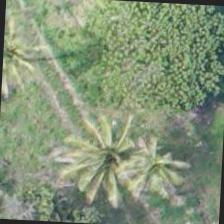Kelapa_Sawit: (49, 114, 144, 210), (104, 116, 199, 210), (0, 14, 51, 106)
